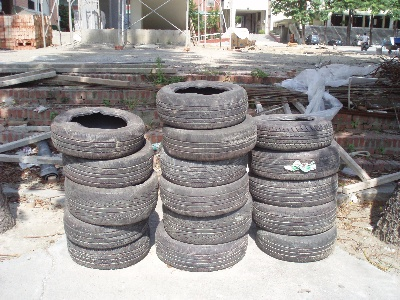plastic_bag: (277, 63, 379, 93)
tire: (63, 167, 158, 227), (154, 220, 248, 273), (50, 107, 146, 158), (160, 113, 257, 162), (155, 79, 249, 129), (61, 138, 153, 189), (162, 196, 253, 245), (251, 140, 341, 182), (160, 174, 249, 216), (61, 205, 146, 248), (66, 228, 151, 271), (159, 148, 248, 188), (250, 197, 338, 235), (249, 171, 337, 207), (255, 225, 337, 263), (256, 114, 333, 151)
